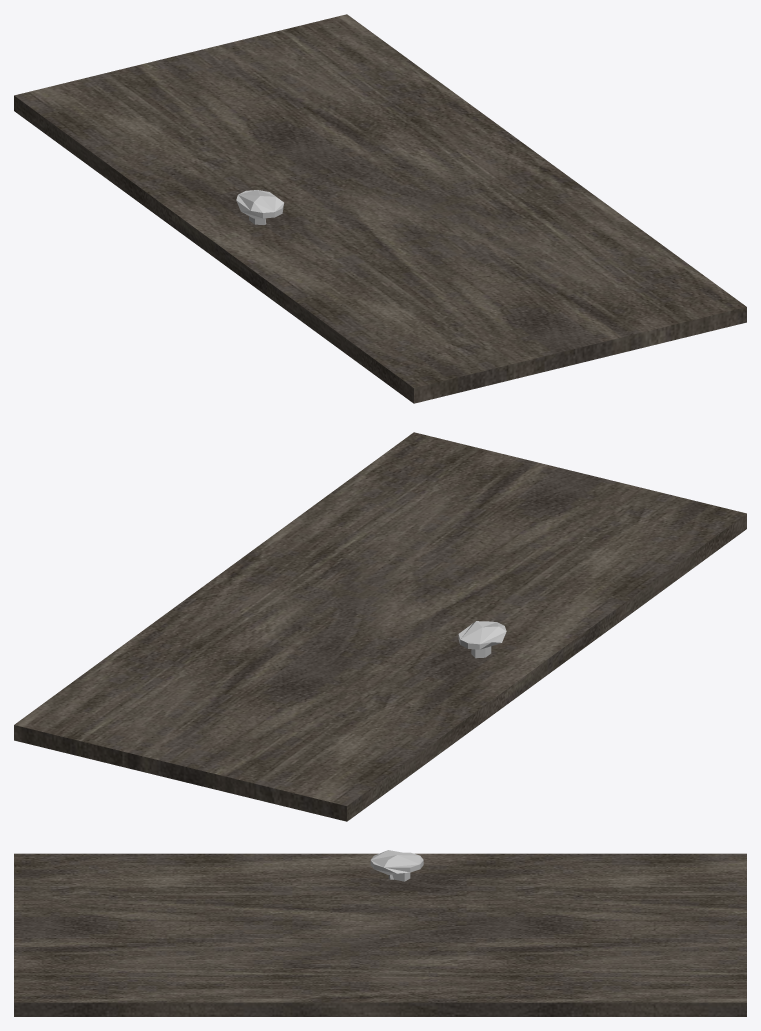
The model's file is door172_wtf.obj.
The picture shows the model from 3 angles, top to bottom: view 1: azimuth 30°, elevation 25°; view 2: azimuth 150°, elevation 25°; view 3: azimuth 270°, elevation 25°; orthographic projection. The views are drawn at different scales.
Parts seen in each view (by area): view 1: group17, group16; view 2: group17, group16; view 3: group17, group16.
Boxes of the visible parts, x1,y1,x2,y2 form: group17: (14, 14, 746, 403); group16: (236, 190, 284, 218); group17: (14, 432, 746, 821); group16: (458, 621, 506, 649); group17: (14, 853, 746, 1016); group16: (370, 850, 423, 874).
Bounding box in the file's own units: 317 × 64.19 × 660.
